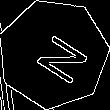N_NW: (21, 23, 86, 84)
